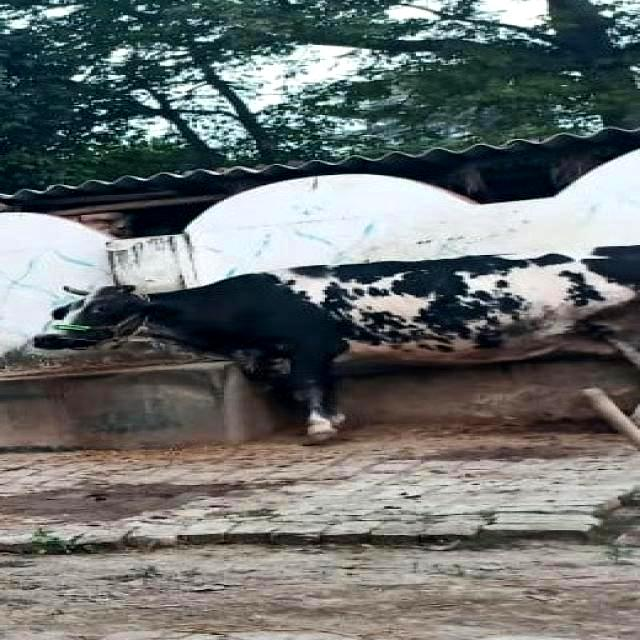COW: (34, 246, 640, 434)
